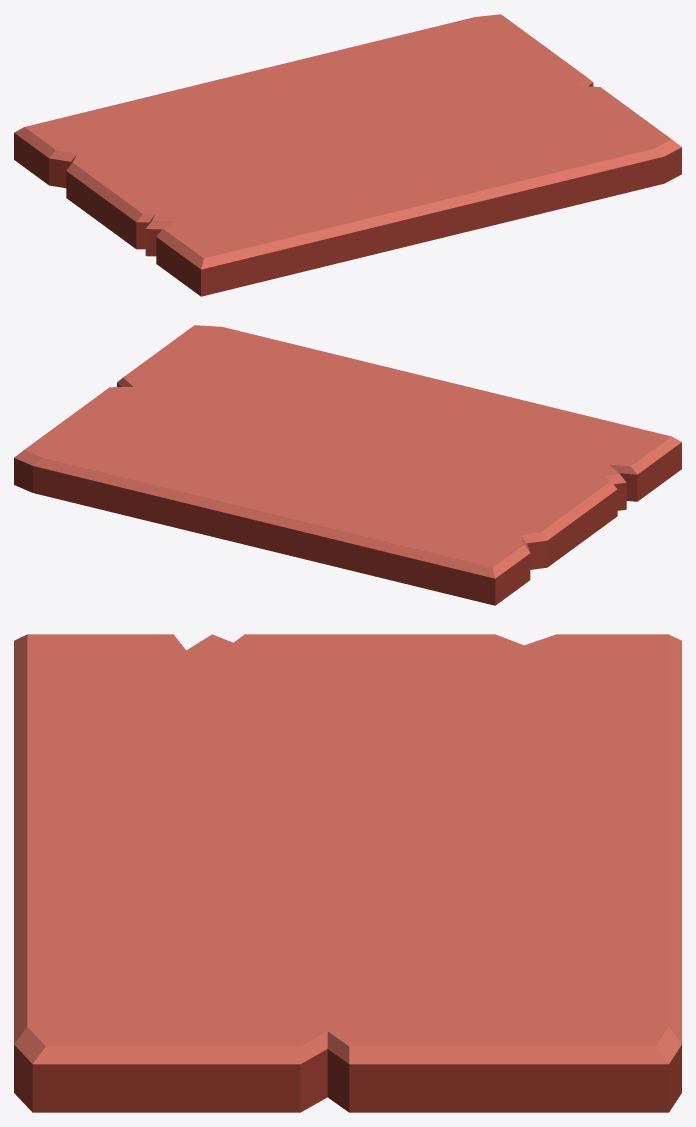
The model's file is FloorTile.glb.
3 views of the same model, one above another, from view 1: azimuth 30°, elevation 25°; view 2: azimuth 150°, elevation 25°; view 3: azimuth 270°, elevation 25° (orthographic). The views are drawn at different scales.
Visible parts, largest first — view 1: Cube; view 2: Cube; view 3: Cube.
Boxes of the visible parts, <box> form: Cube: <box>14,14,681,296</box>; Cube: <box>14,325,681,605</box>; Cube: <box>14,634,681,1112</box>.
Size of the model in its own units: 15 by 1 by 10.
Materials: 1 (1 with a texture image).
